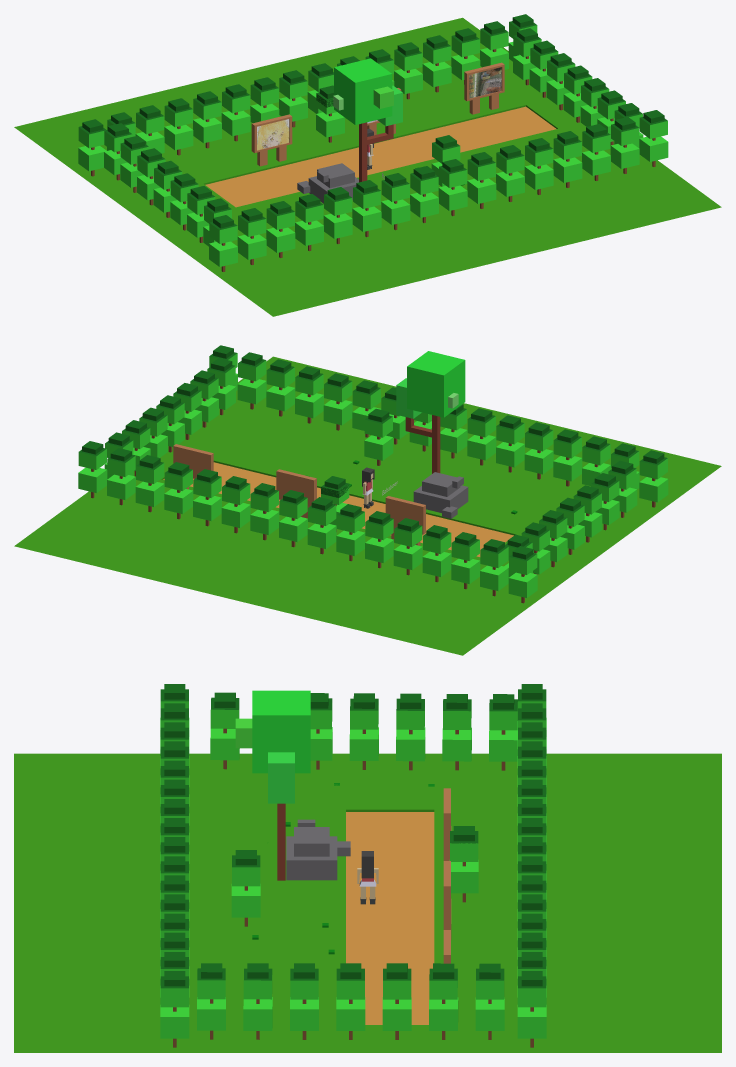
File: Port.glb
3 views of the same model, one above another, from view 1: azimuth 30°, elevation 25°; view 2: azimuth 150°, elevation 25°; view 3: azimuth 270°, elevation 25° (orthographic). The views are drawn at different scales.
Visible parts, largest first — view 1: Ground, Board.002, Board.001; view 2: Ground, Board, Board.002, Board.001; view 3: Ground, heels, Board.
Part boxes in pixels (box(x1,y1,x2,y2)): Ground: box(14, 14, 721, 316); Board.002: box(251, 114, 292, 166); Board.001: box(464, 62, 504, 114); Ground: box(14, 345, 721, 655); Board: box(276, 469, 316, 518); Board.002: box(385, 496, 425, 545); Board.001: box(173, 444, 213, 489); Ground: box(14, 684, 721, 1052); heels: box(357, 851, 378, 904); Board: box(443, 861, 451, 939).
Size of what is drawn, in the model's own units: 64.08 by 17.78 by 64.08.
Materials: 28 (3 with a texture image).
